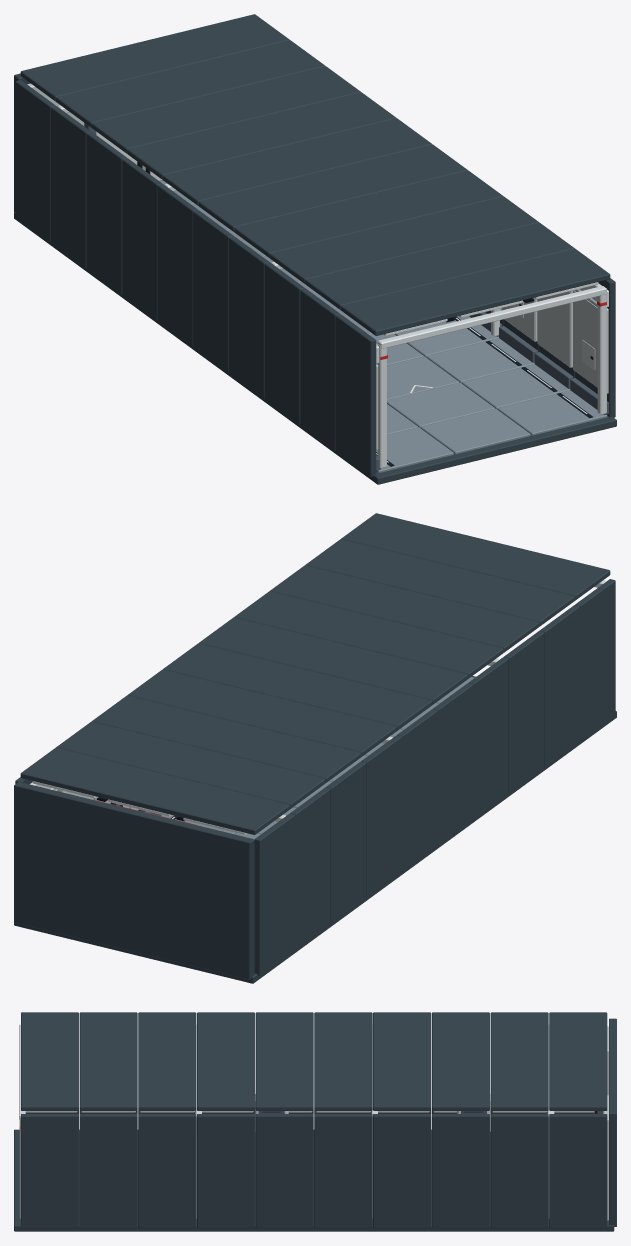
Rendered from corridor.obj.
The picture shows the model from 3 angles, top to bottom: view 1: azimuth 30°, elevation 25°; view 2: azimuth 150°, elevation 25°; view 3: azimuth 270°, elevation 25°; orthographic projection. The views are drawn at different scales.
Parts seen in each view (by area): view 1: part_022, part_224, part_140, part_194, part_081, part_165, part_253, part_052, part_278, part_106, part_006, part_065 (+25 smaller); view 2: part_291, part_278, part_081, part_165, part_106, part_052, part_140, part_224, part_253, part_022, part_194, part_266 (+10 smaller); view 3: part_047, part_074, part_133, part_160, part_187, part_246, part_273, part_015, part_101, part_219, part_052, part_081 (+10 smaller).
Boxes of the visible parts, <box> form: part_022: <box>341,248,610,335</box>; part_224: <box>91,66,360,153</box>; part_140: <box>198,144,467,231</box>; part_194: <box>127,92,396,179</box>; part_081: <box>269,196,538,283</box>; part_165: <box>163,118,432,205</box>; part_253: <box>56,40,325,127</box>; part_052: <box>305,222,574,309</box>; part_278: <box>20,14,289,101</box>; part_106: <box>234,170,503,257</box>; part_006: <box>335,314,376,476</box>; part_065: <box>264,262,305,424</box>; part_291: <box>14,782,254,980</box>; part_278: <box>20,747,289,834</box>; part_081: <box>270,565,539,652</box>; part_165: <box>163,643,432,730</box>; part_106: <box>234,591,503,678</box>; part_052: <box>305,539,574,626</box>; part_140: <box>198,617,467,704</box>; part_224: <box>92,695,361,782</box>; part_253: <box>56,721,325,808</box>; part_022: <box>341,513,610,600</box>; part_194: <box>127,669,396,756</box>; part_266: <box>254,813,295,975</box>; part_047: <box>79,1114,137,1228</box>; part_074: <box>138,1114,196,1228</box>; part_133: <box>255,1114,313,1228</box>; part_160: <box>314,1114,372,1228</box>; part_187: <box>373,1114,431,1228</box>; part_246: <box>490,1114,548,1228</box>; part_273: <box>549,1114,607,1228</box>; part_015: <box>21,1114,78,1228</box>; part_101: <box>197,1114,254,1228</box>; part_219: <box>432,1114,489,1228</box>; part_052: <box>79,1012,137,1110</box>; part_081: <box>138,1012,196,1110</box>.
Size of the model in its own units: 7.16 by 4.19 by 18.48.
